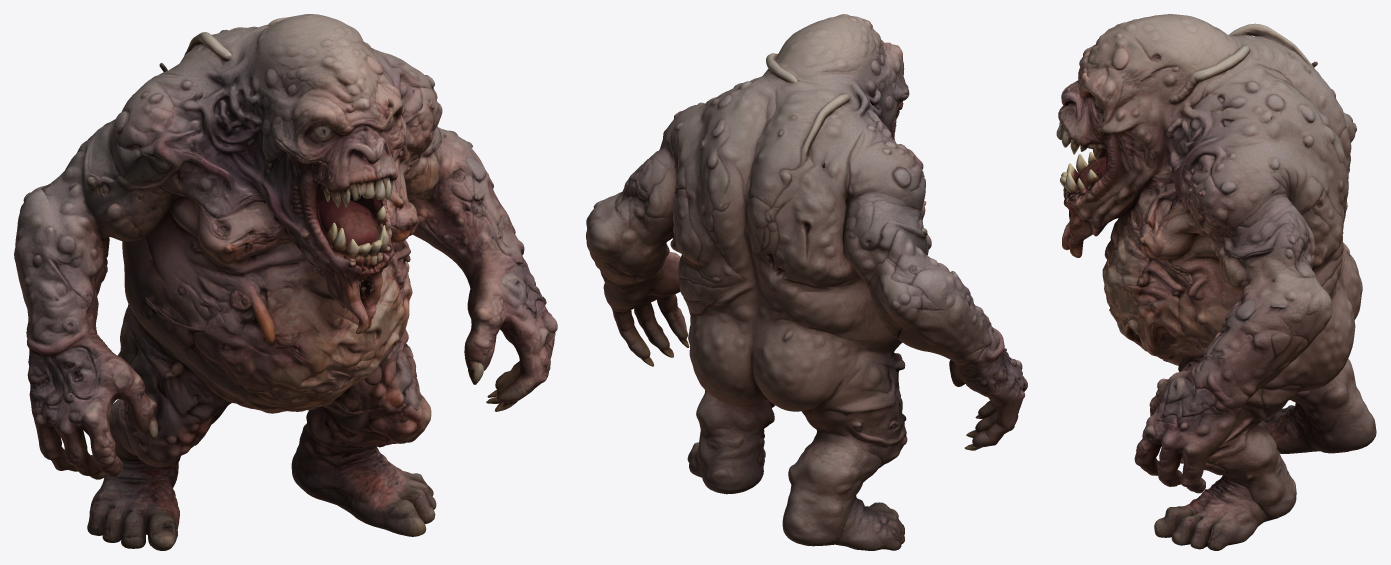
3 views of the same model, side by side, from view 1: azimuth 30°, elevation 25°; view 2: azimuth 150°, elevation 25°; view 3: azimuth 270°, elevation 25° (orthographic). The views are drawn at different scales.
Parts seen in each view (by area): view 1: tripo_node_091f50da; view 2: tripo_node_091f50da; view 3: tripo_node_091f50da.
Part boxes in pixels (<box>): tripo_node_091f50da: <box>14,14,557,550</box>; tripo_node_091f50da: <box>586,14,1027,550</box>; tripo_node_091f50da: <box>1056,14,1376,550</box>.
Bounding box in the file's own units: 0.9668 × 0.9792 × 0.5981.
Materials: 1 (1 with a texture image).
